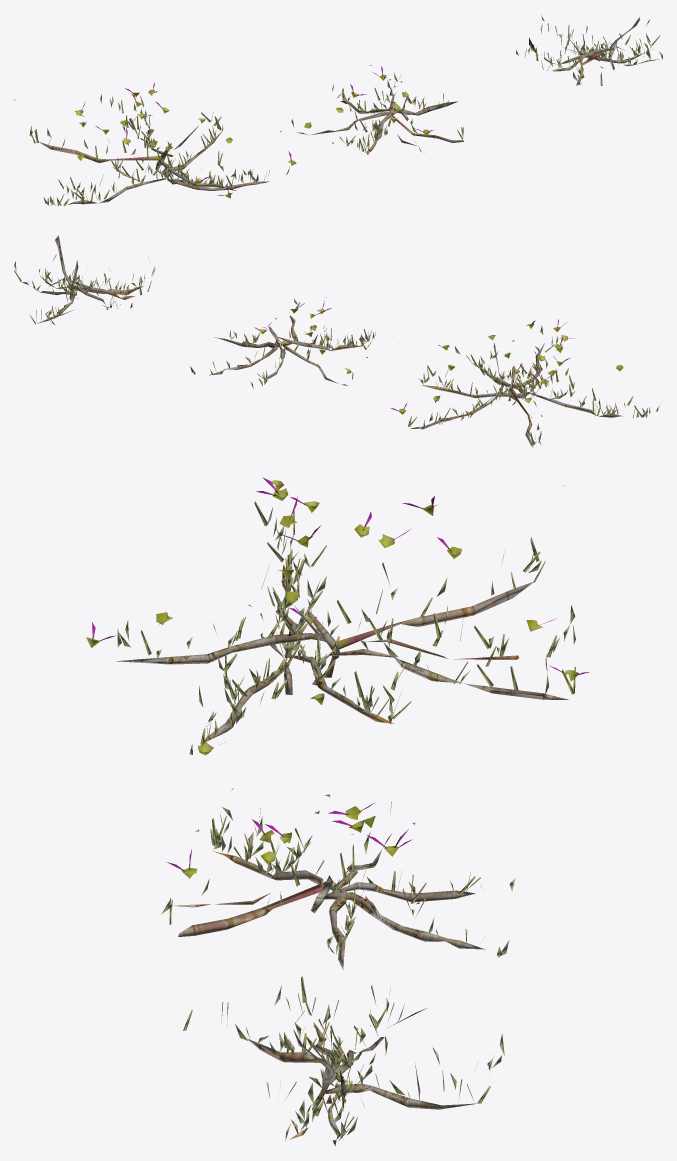
Rendered from leipoldtia_schultzei.glb.
The picture shows the model from 3 angles, top to bottom: view 1: azimuth 30°, elevation 25°; view 2: azimuth 150°, elevation 25°; view 3: azimuth 270°, elevation 25°; orthographic projection. The views are drawn at different scales.
Visible parts, largest first — view 1: leipoldtia_schultzei_Large_LOD0; view 2: leipoldtia_schultzei_Large_LOD0; view 3: leipoldtia_schultzei_Large_LOD0.
Boxes of the visible parts, left/top/right/bottom form: leipoldtia_schultzei_Large_LOD0: left=14, top=15, right=662, bottom=205; leipoldtia_schultzei_Large_LOD0: left=14, top=235, right=662, bottom=447; leipoldtia_schultzei_Large_LOD0: left=86, top=477, right=589, bottom=1145.
Size of the model in its own units: 2.22 by 0.3123 by 0.7756.
Materials: 1 (1 with a texture image).
